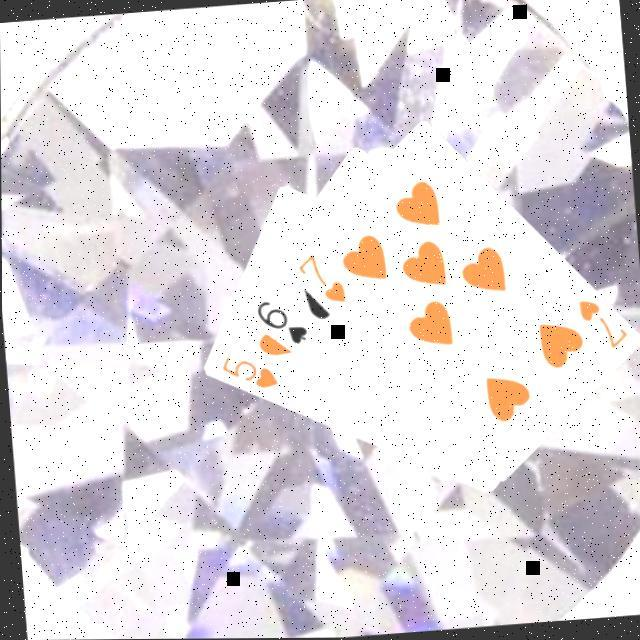5H: (213, 347, 278, 393)
6S: (249, 292, 308, 348)
7H: (570, 292, 628, 354), (290, 246, 346, 307)
